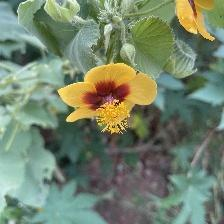indian mallow: (56, 64, 160, 139), (174, 1, 222, 42)
